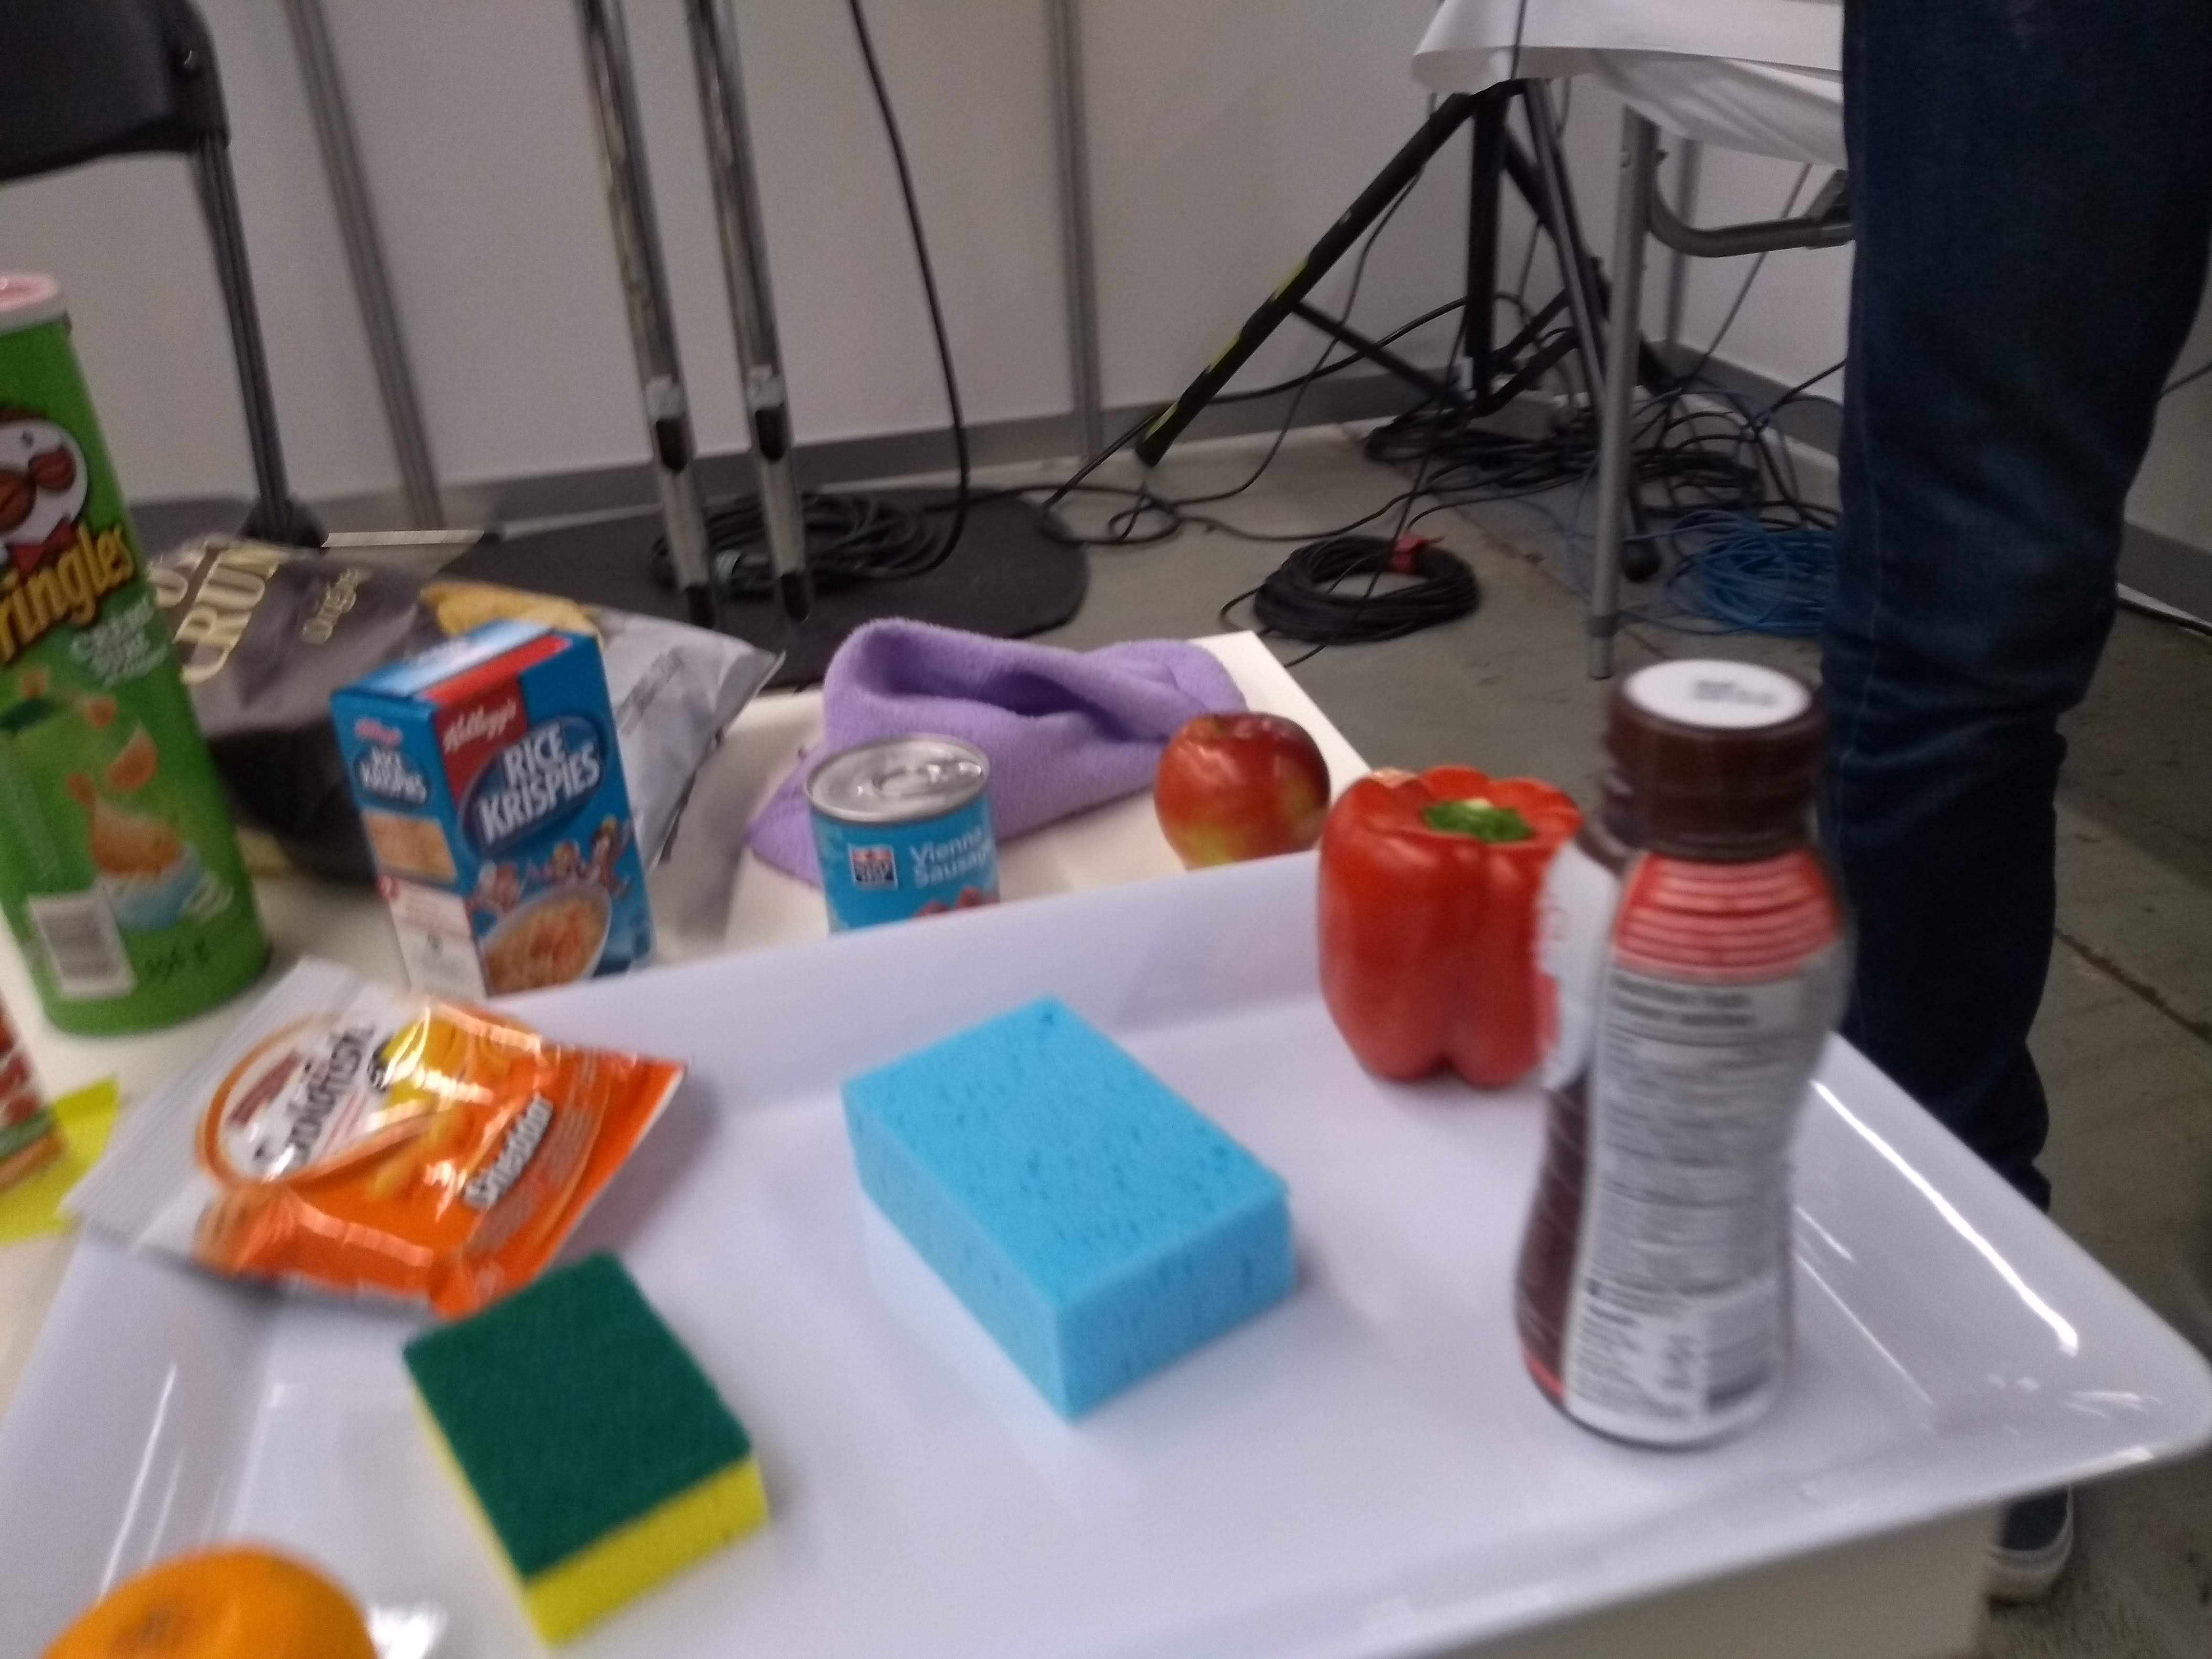apple: (1150, 701, 1336, 873)
cereal: (322, 610, 667, 1000)
chocolate_drink: (1498, 648, 1878, 1459)
crackers: (54, 950, 702, 1335)
sausages: (799, 725, 1001, 931)
scrubby: (399, 1239, 780, 1657)
sponge_opl: (829, 981, 1312, 1436)
